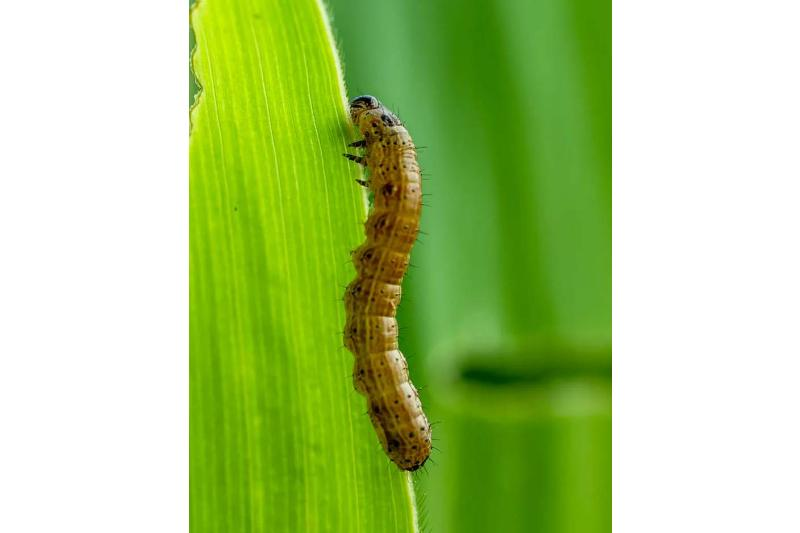fall-armyworm: (343, 96, 432, 474)
